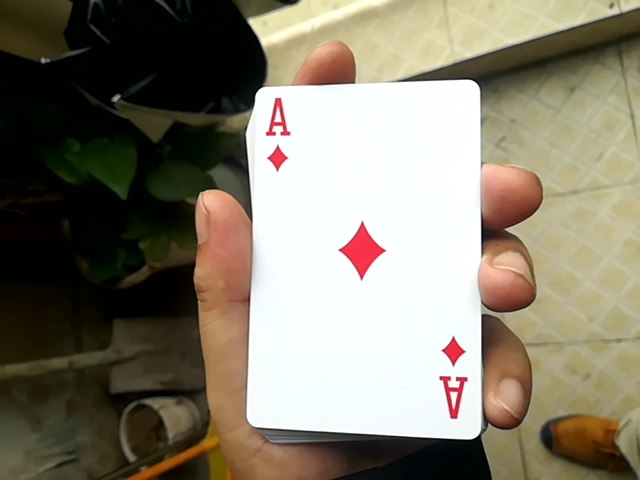fk a: (234, 80, 486, 443)
